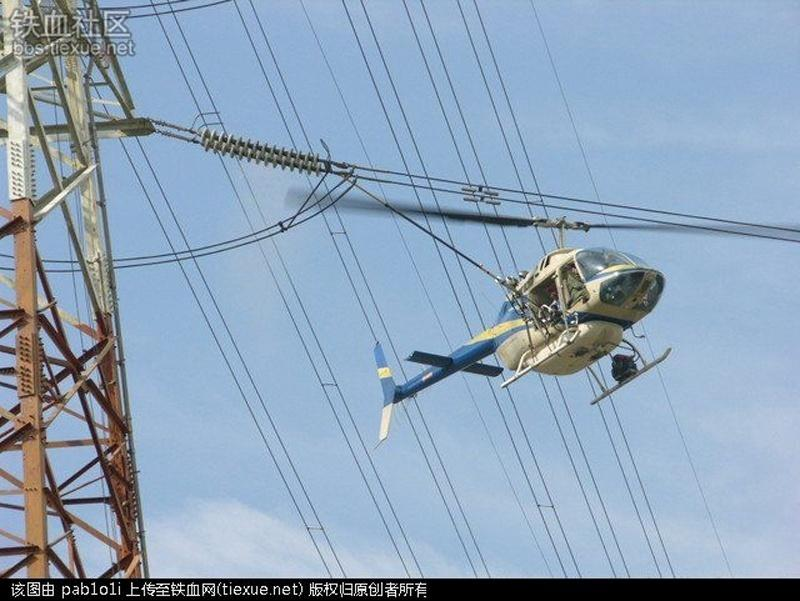power_tower: (2, 5, 159, 583)
